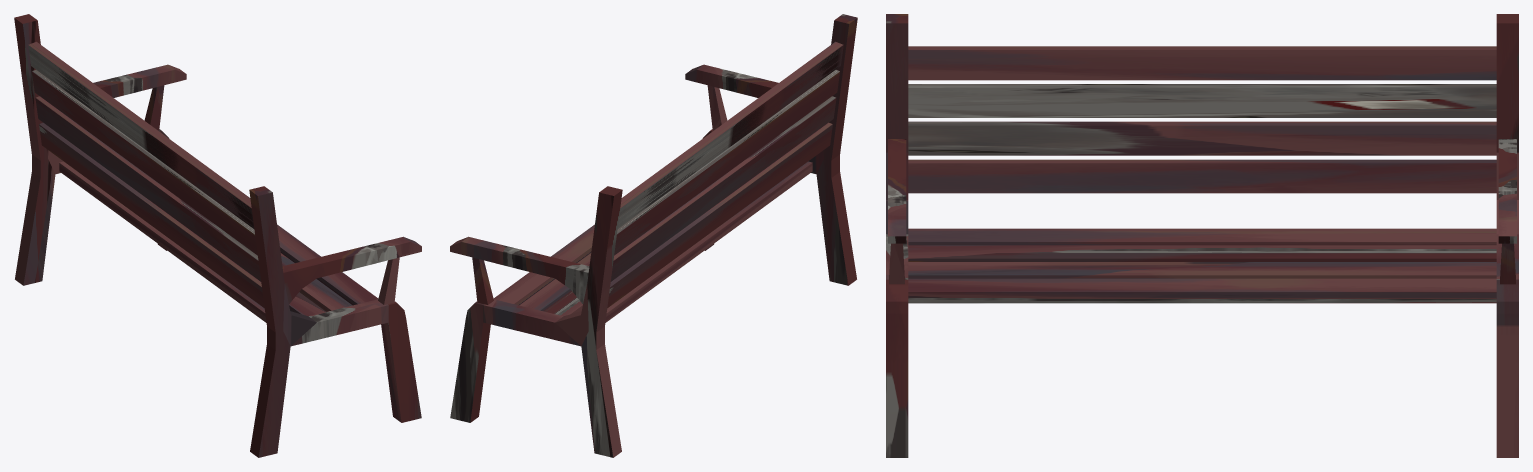
Rendered from bench.fbx.
3 views of the same model, side by side, from view 1: azimuth 30°, elevation 25°; view 2: azimuth 150°, elevation 25°; view 3: azimuth 270°, elevation 25° (orthographic). The views are drawn at different scales.
Parts seen in each view (by area): view 1: bench; view 2: bench; view 3: bench.
Part boxes in pixels (x1,y1,x2,y2): bench: [14, 14, 421, 457]; bench: [450, 14, 857, 457]; bench: [886, 14, 1518, 457].
Bounding box in the file's own units: 501 × 762 × 1284.
